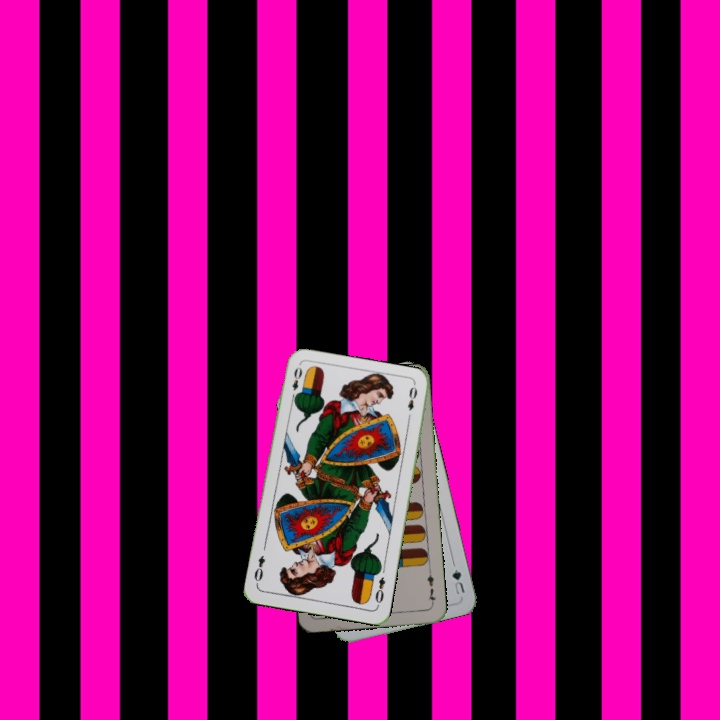E7: (423, 567, 438, 607)
EO: (288, 363, 305, 403), (371, 573, 388, 609)
GU: (448, 559, 467, 597)
